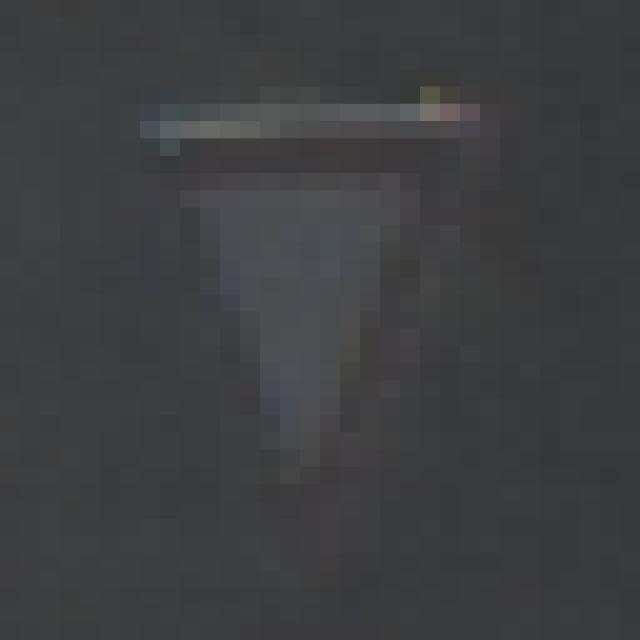Give Way: (121, 105, 541, 554)
